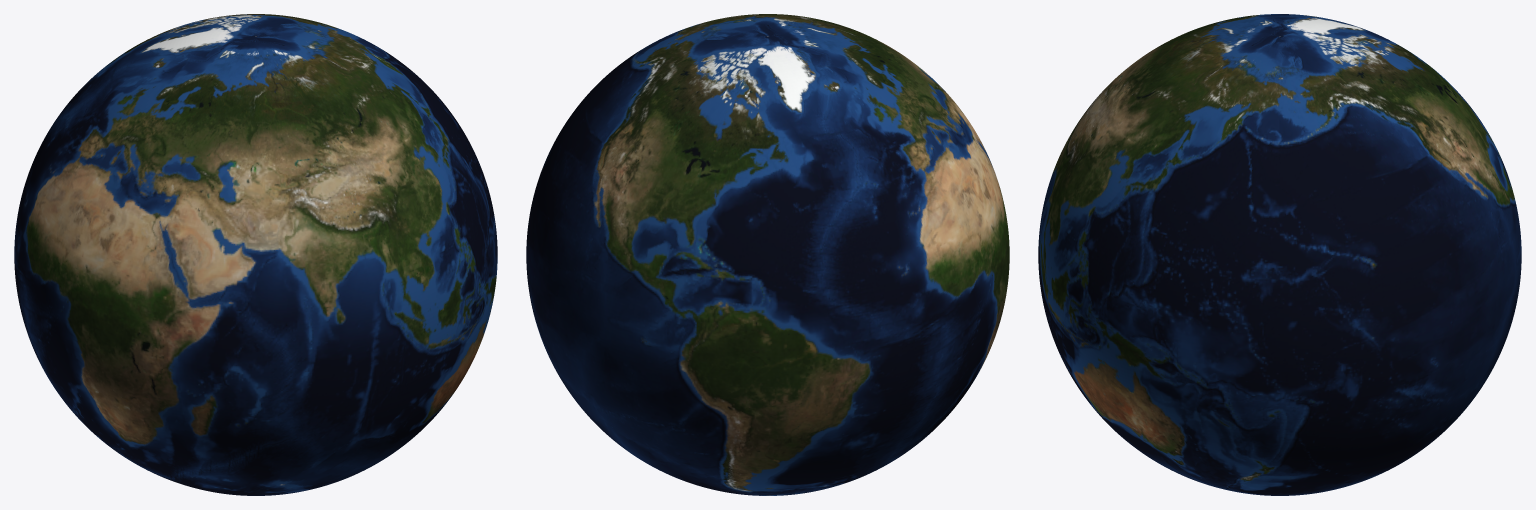
The model's file is GlobeMesh.fbx.
3 views of the same model, side by side, from view 1: azimuth 30°, elevation 25°; view 2: azimuth 150°, elevation 25°; view 3: azimuth 270°, elevation 25° (orthographic).
Parts seen in each view (by area): view 1: MeshGenerator; view 2: MeshGenerator; view 3: MeshGenerator.
Boxes of the visible parts, left/top/right/bottom form: MeshGenerator: left=14, top=14, right=497, bottom=495; MeshGenerator: left=526, top=14, right=1009, bottom=495; MeshGenerator: left=1038, top=14, right=1521, bottom=495.
Bounding box in the file's own units: 12756 × 12714 × 12756.
